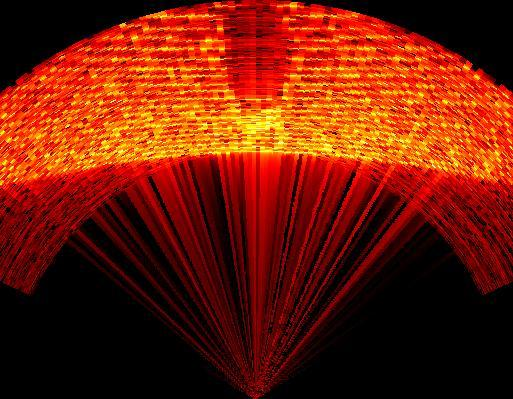box_crate: (228, 3, 285, 108)
